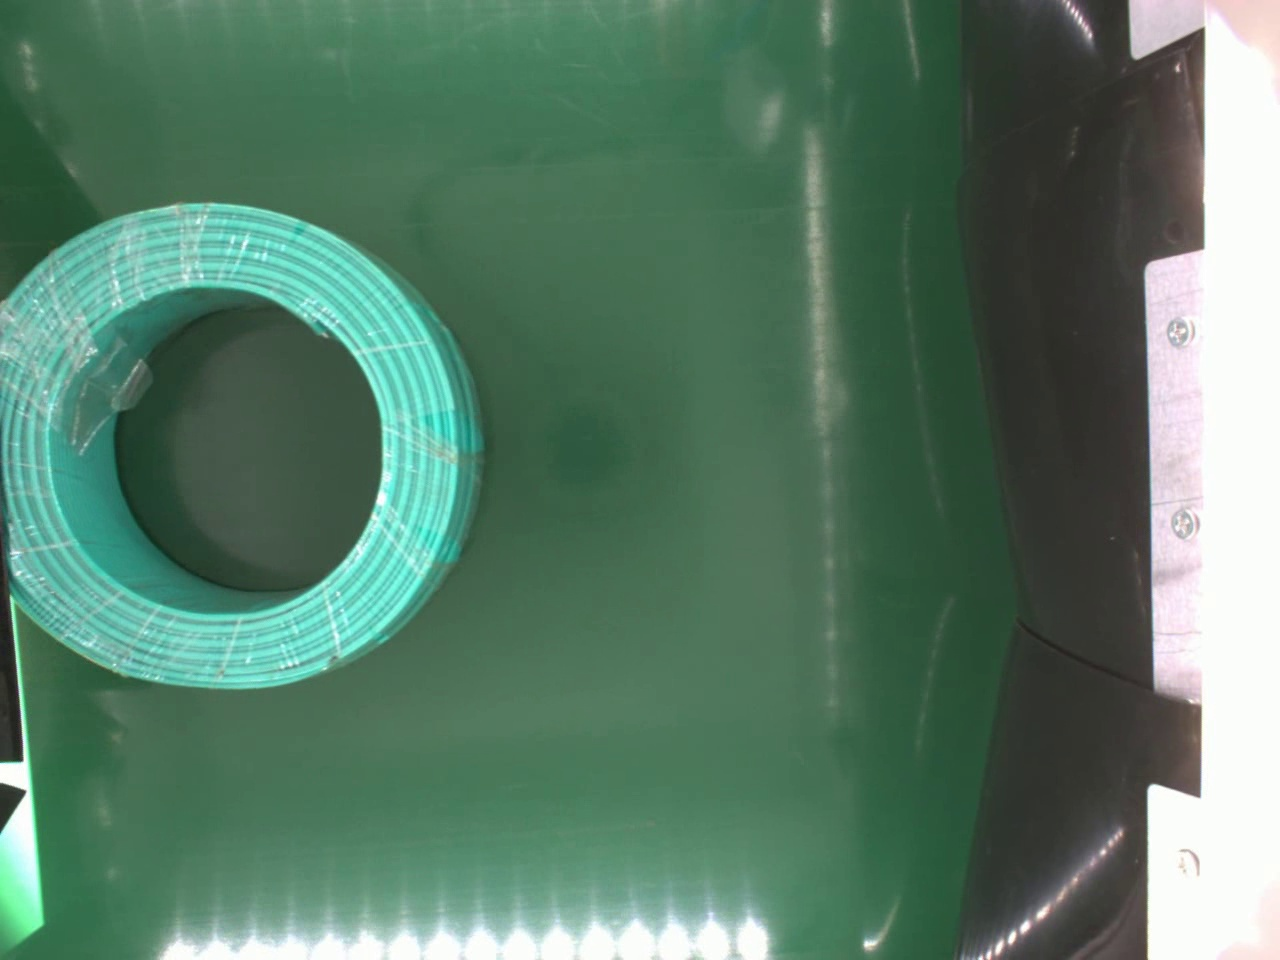green: (0, 199, 491, 693)
